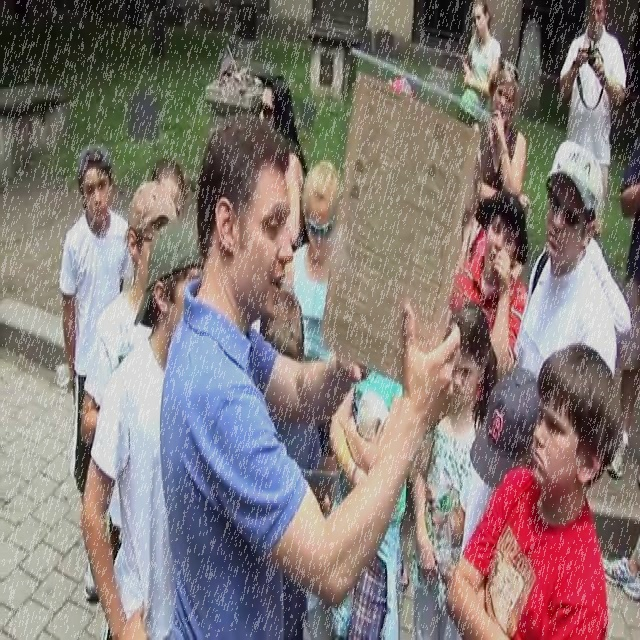pessoa: (160, 108, 464, 640), (448, 340, 628, 640), (80, 213, 206, 639), (78, 178, 180, 574), (412, 297, 501, 639), (431, 367, 542, 638), (512, 139, 620, 383), (56, 138, 130, 490), (257, 287, 329, 638), (328, 369, 406, 639), (447, 186, 529, 400), (282, 154, 346, 362), (606, 116, 640, 490), (472, 58, 534, 216), (258, 71, 308, 249), (586, 234, 632, 334), (592, 522, 640, 610), (151, 156, 189, 223), (379, 65, 418, 104), (457, 202, 477, 256)
